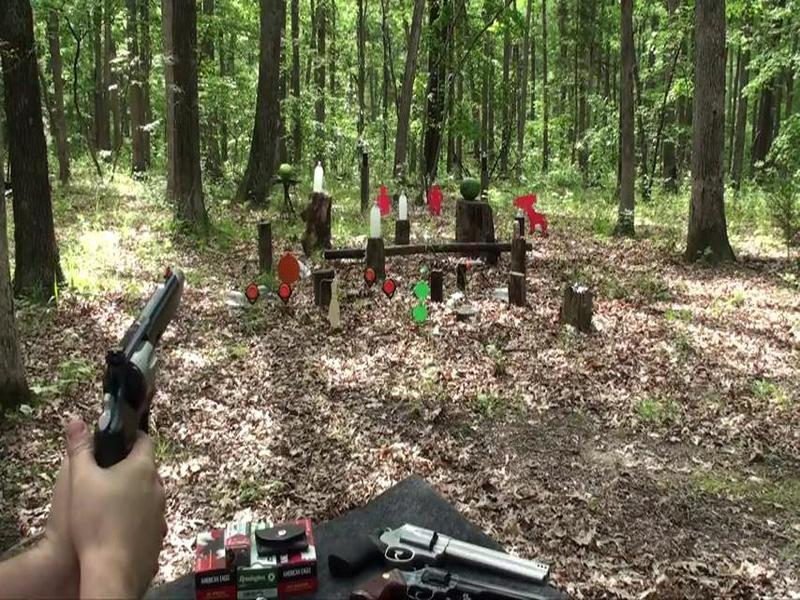Revolver: (77, 252, 207, 511)
